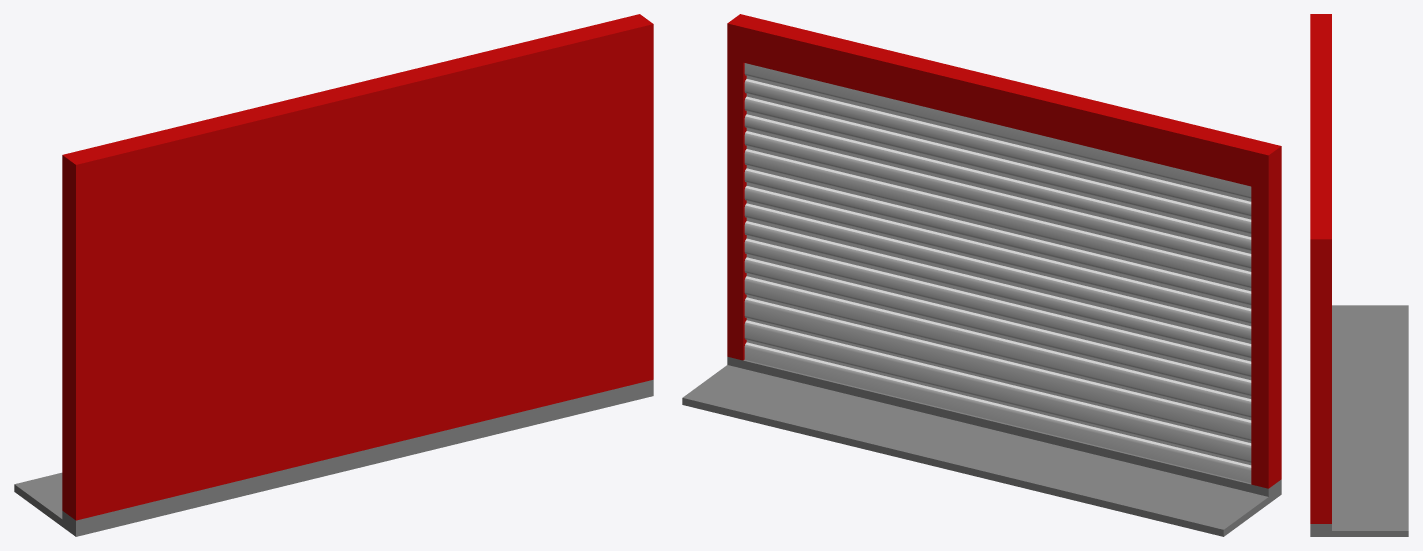
Rendered from Kantine rolluik.fbx.
3 views of the same model, side by side, from view 1: azimuth 30°, elevation 25°; view 2: azimuth 150°, elevation 25°; view 3: azimuth 270°, elevation 25° (orthographic). The views are drawn at different scales.
Parts seen in each view (by area): view 1: pCube12; view 2: pCube12; view 3: pCube12.
Boxes of the visible parts, box(x1,y1,x2,y2) form: pCube12: box(14, 14, 653, 536); pCube12: box(682, 14, 1281, 536); pCube12: box(1310, 14, 1408, 536).
Bounding box in the file's own units: 19.4 × 11.94 × 3.59.
